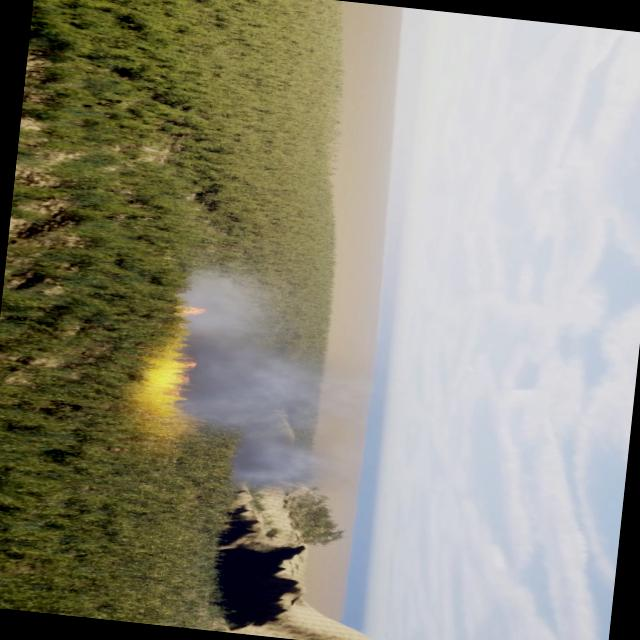fire: (131, 298, 206, 448)
smoke: (158, 264, 374, 496)
